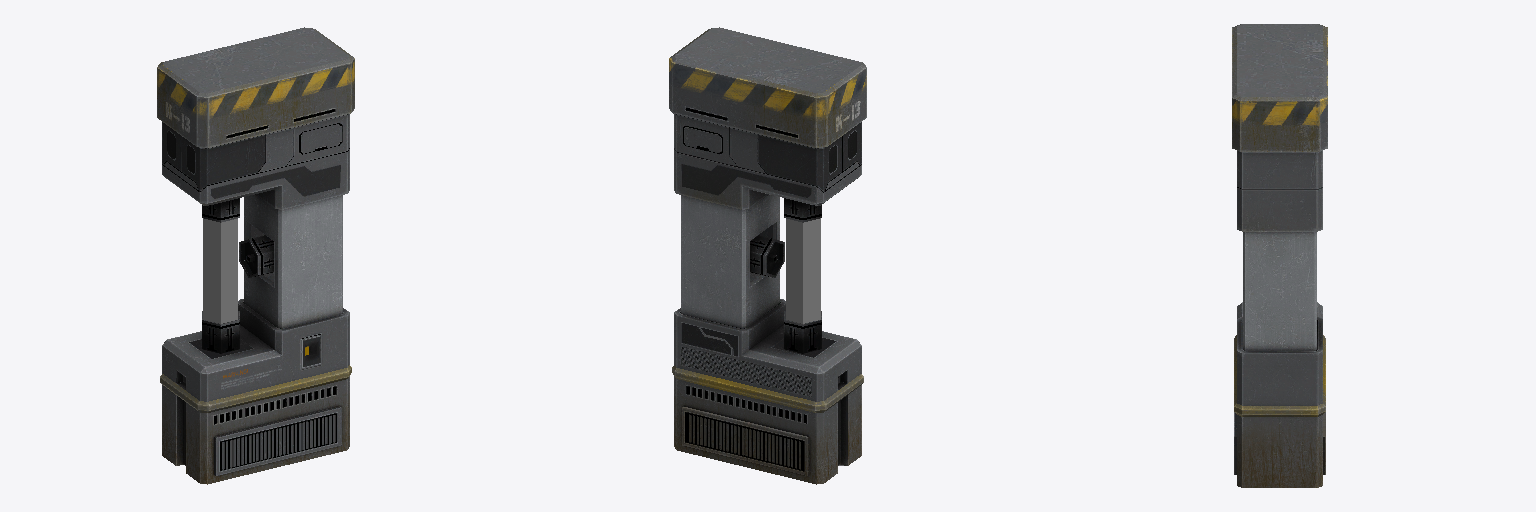
3 renders of one model, left to right at view 1: azimuth 30°, elevation 25°; view 2: azimuth 150°, elevation 25°; view 3: azimuth 270°, elevation 25°, orthographic.
Visible parts, largest first — view 1: decor_09; view 2: decor_09; view 3: decor_09.
Boxes of the visible parts, x1,y1,x2,y2 form: decor_09: [157, 27, 354, 484]; decor_09: [669, 27, 866, 484]; decor_09: [1232, 24, 1327, 487].
Bounding box in the file's own units: 67.7 × 160 × 35.7.
2 materials, 1 textured.